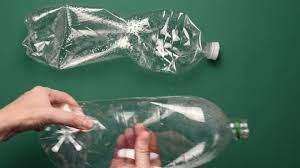plastic: (21, 6, 217, 70)
